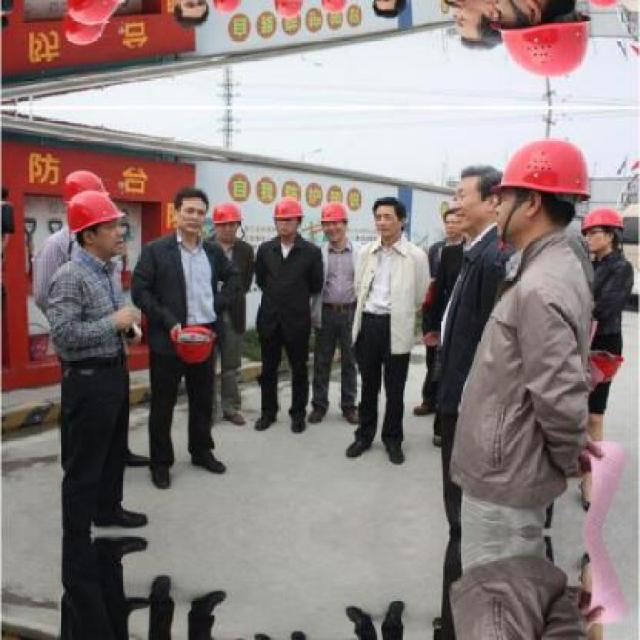helmet: (494, 130, 592, 248), (494, 0, 594, 83), (65, 189, 128, 257), (59, 167, 110, 224), (58, 0, 111, 46), (579, 207, 621, 256), (65, 0, 129, 25), (316, 198, 352, 242), (271, 194, 304, 237), (211, 199, 244, 241), (270, 0, 304, 20), (315, 0, 352, 15), (210, 0, 244, 14)
